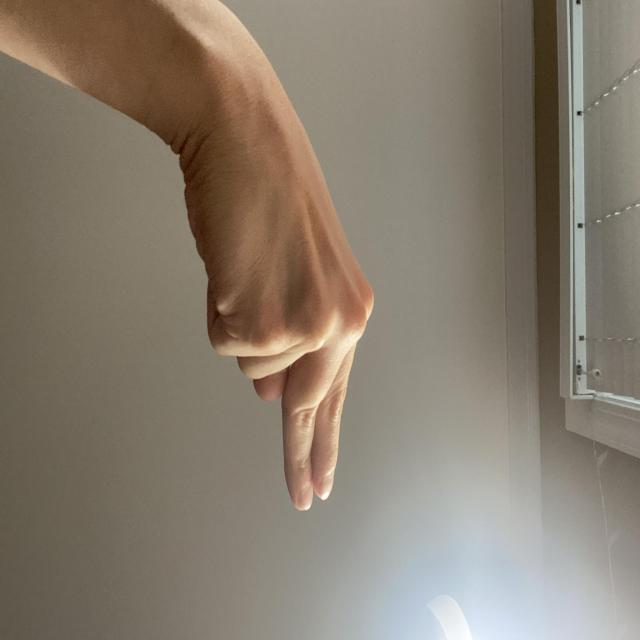H: (160, 349, 547, 622)
